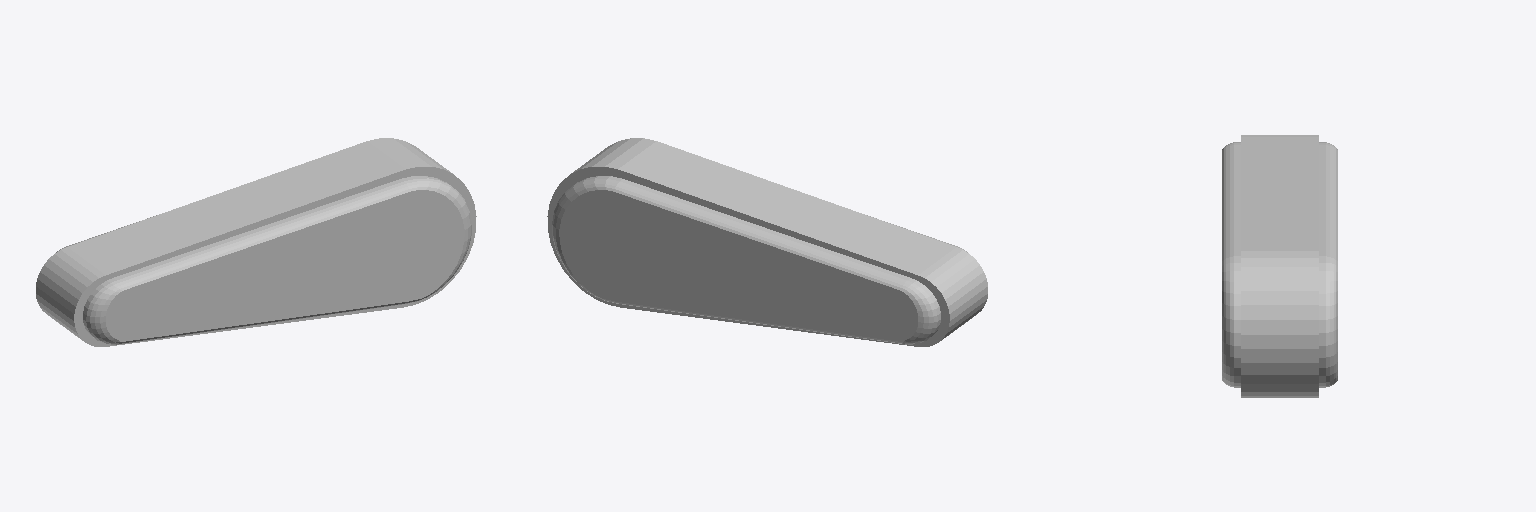
File: flipper.obj
The picture shows the model from 3 angles: view 1: azimuth 30°, elevation 25°; view 2: azimuth 150°, elevation 25°; view 3: azimuth 270°, elevation 25°; orthographic projection.
Visible parts, largest first — view 1: Cube; view 2: Cube; view 3: Cube.
Part boxes in pixels (bbox=[...]): Cube: bbox=[36, 138, 476, 346]; Cube: bbox=[547, 138, 987, 346]; Cube: bbox=[1222, 135, 1337, 397].
Size of the model in its own units: 5.95 by 1.95 by 1.49.